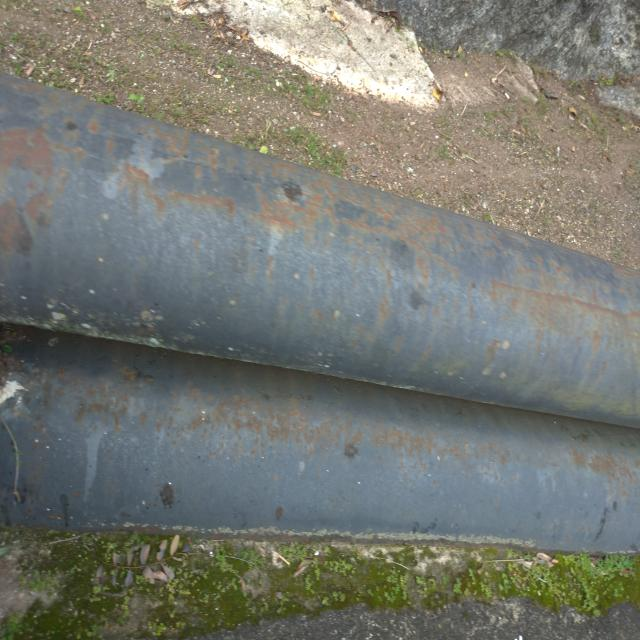gas: (7, 77, 637, 421), (3, 331, 637, 549)
